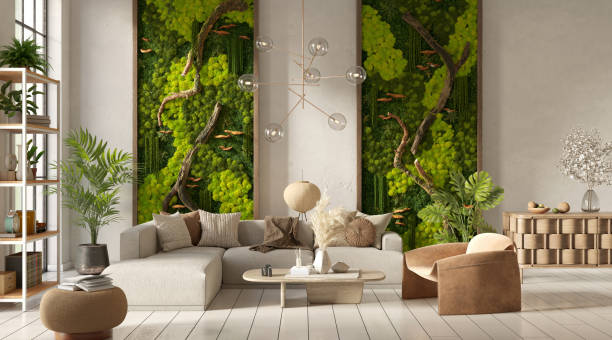chair: (401, 230, 523, 317)
flower vase: (556, 124, 612, 211), (309, 195, 344, 273)
large plant: (55, 127, 125, 275), (423, 170, 505, 241)
small plant: (0, 32, 54, 76), (1, 79, 37, 123)
sofa: (99, 208, 407, 312)
table: (240, 265, 386, 309)
